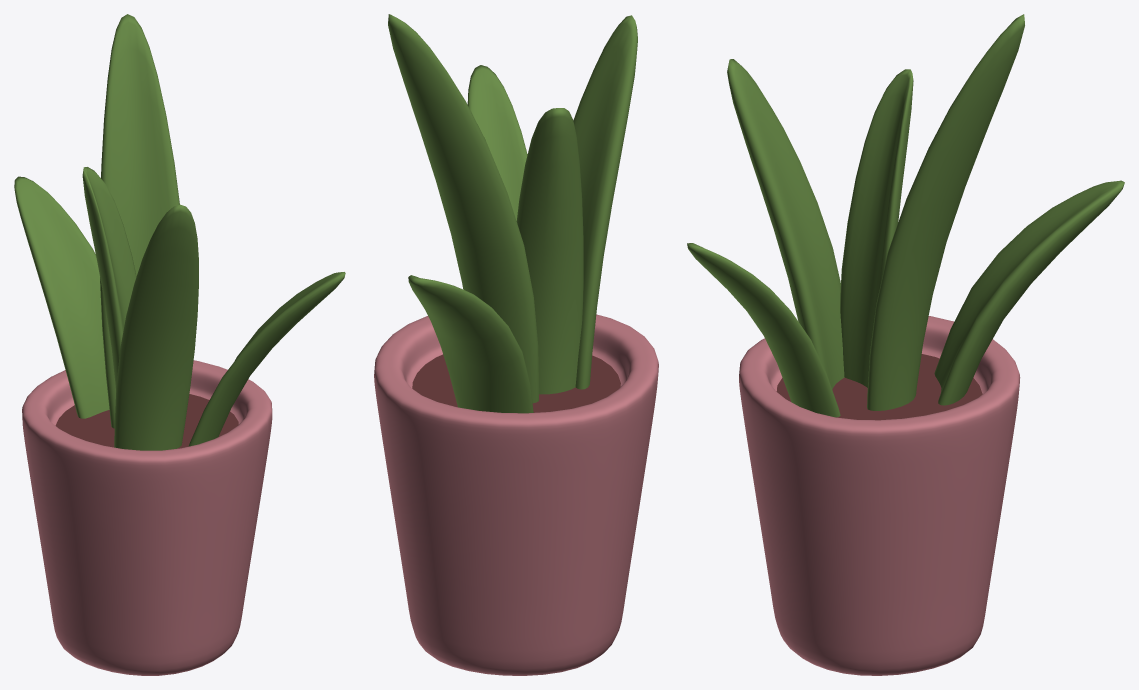
The model's file is tongue-plant-transformed.glb.
3 renders of one model, left to right at view 1: azimuth 30°, elevation 25°; view 2: azimuth 150°, elevation 25°; view 3: azimuth 270°, elevation 25°, orthographic. The views are drawn at different scales.
Parts seen in each view (by area): view 1: Plant Base, Cube 3.003, Cube 2.003, Cube 4.006, Cube 5.001, Cube.006, Ellipse 3.002; view 2: Plant Base, Cube 2.003, Cube 5.001, Cube 3.003, Cube 4.006, Cube.006, Ellipse 3.002; view 3: Plant Base, Cube 2.003, Cube 3.003, Cube 5.001, Cube 4.006, Cube.006, Ellipse 3.002.
Boxes of the visible parts, bbox=[...] form: Plant Base: bbox=[22, 360, 272, 675]; Cube 3.003: bbox=[114, 204, 198, 450]; Cube 2.003: bbox=[100, 14, 179, 428]; Cube 4.006: bbox=[14, 176, 109, 418]; Cube 5.001: bbox=[82, 167, 136, 392]; Cube.006: bbox=[188, 272, 345, 446]; Ellipse 3.002: bbox=[55, 394, 238, 448]; Plant Base: bbox=[374, 314, 658, 675]; Cube 2.003: bbox=[388, 14, 539, 403]; Cube 5.001: bbox=[516, 108, 583, 394]; Cube 3.003: bbox=[573, 15, 637, 389]; Cube 4.006: bbox=[408, 275, 533, 413]; Cube.006: bbox=[467, 65, 527, 220]; Ellipse 3.002: bbox=[412, 354, 620, 412]; Plant Base: bbox=[739, 316, 1020, 675]; Cube 2.003: bbox=[867, 14, 1024, 410]; Cube 3.003: bbox=[727, 59, 844, 389]; Cube 5.001: bbox=[840, 69, 913, 387]; Cube 4.006: bbox=[934, 180, 1124, 405]; Cube.006: bbox=[687, 243, 840, 417]; Ellipse 3.002: bbox=[776, 354, 982, 420].
Bounding box in the file's own units: 0.5966 × 1.46 × 0.8902.
